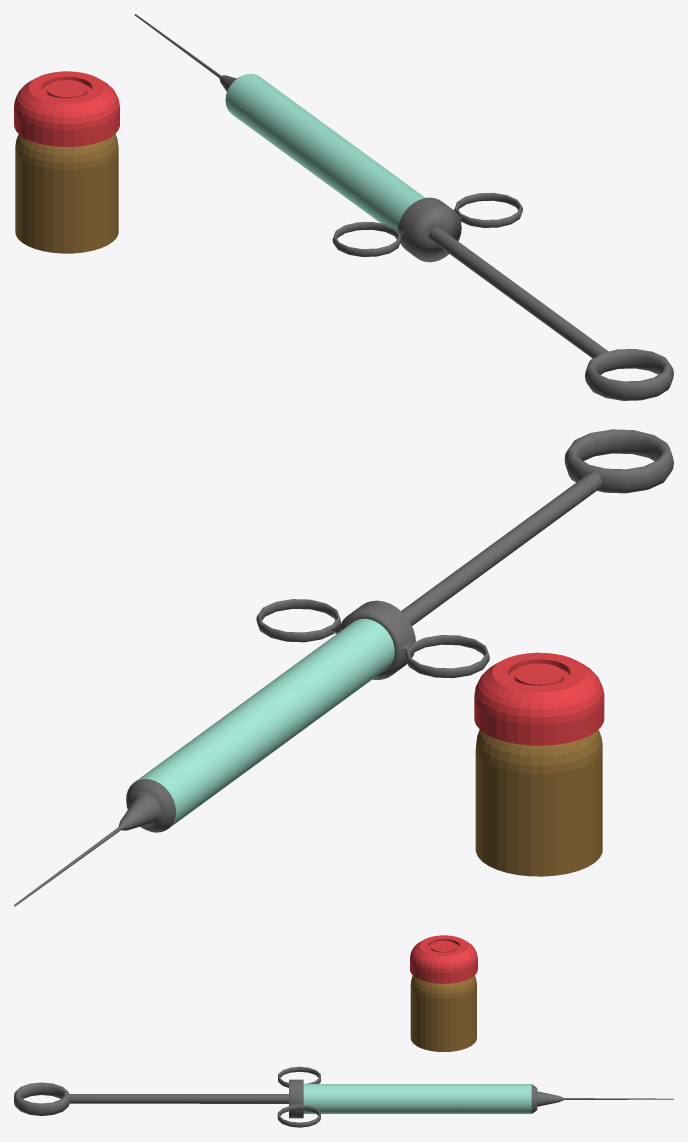
File: herramienta erronea.fbx
3 views of the same model, one above another, from view 1: azimuth 30°, elevation 25°; view 2: azimuth 150°, elevation 25°; view 3: azimuth 270°, elevation 25° (orthographic). The views are drawn at different scales.
Parts seen in each view (by area): view 1: Cylinder.002, Cylinder, Cylinder.001, Cylinder.004, Cylinder.003; view 2: Cylinder.002, Cylinder, Cylinder.001, Cylinder.004, Cylinder.003; view 3: Cylinder, Cylinder.002, Cylinder.004, Cylinder.001, Cylinder.003.
Part boxes in pixels (x1,y1,x2,y2): Cylinder.002: (15, 134, 118, 253); Cylinder: (225, 73, 425, 229); Cylinder.001: (14, 71, 119, 146); Cylinder.004: (429, 227, 673, 400); Cylinder.003: (134, 14, 522, 262); Cylinder.002: (475, 729, 602, 876); Cylinder: (135, 618, 394, 827); Cylinder.001: (474, 652, 604, 745); Cylinder.004: (401, 429, 673, 625); Cylinder.003: (14, 599, 489, 906); Cylinder: (303, 1084, 531, 1113); Cylinder.002: (410, 975, 476, 1051); Cylinder.004: (14, 1082, 288, 1115); Cylinder.001: (410, 935, 477, 983); Cylinder.003: (277, 1066, 673, 1127).
Bounding box in the file's own units: 15.27 × 5.54 × 35.42.
